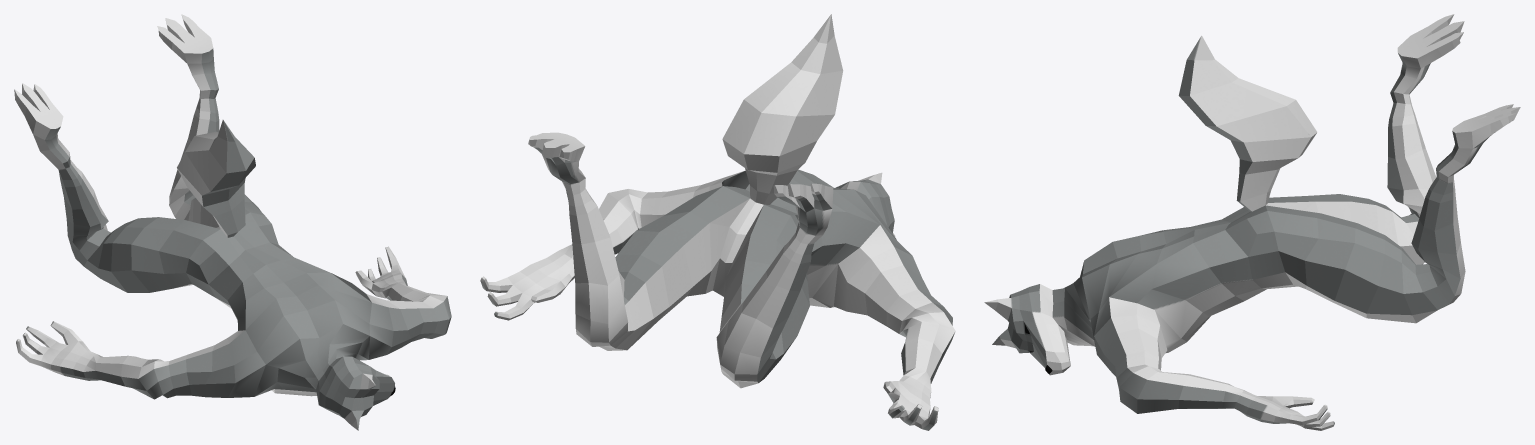
File: WolfDead(79).obj
3 views of the same model, side by side, from view 1: azimuth 30°, elevation 25°; view 2: azimuth 150°, elevation 25°; view 3: azimuth 270°, elevation 25° (orthographic). The views are drawn at different scales.
Parts seen in each view (by area): view 1: Box001; view 2: Box001; view 3: Box001.
Boxes of the visible parts, <box> form: Box001: <box>14,14,451,430</box>; Box001: <box>480,14,955,430</box>; Box001: <box>984,14,1520,430</box>.
Size of the model in its own units: 121 by 81.64 by 136.
